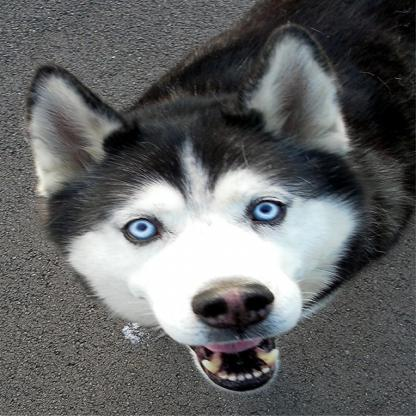husky: (26, 3, 415, 396)
